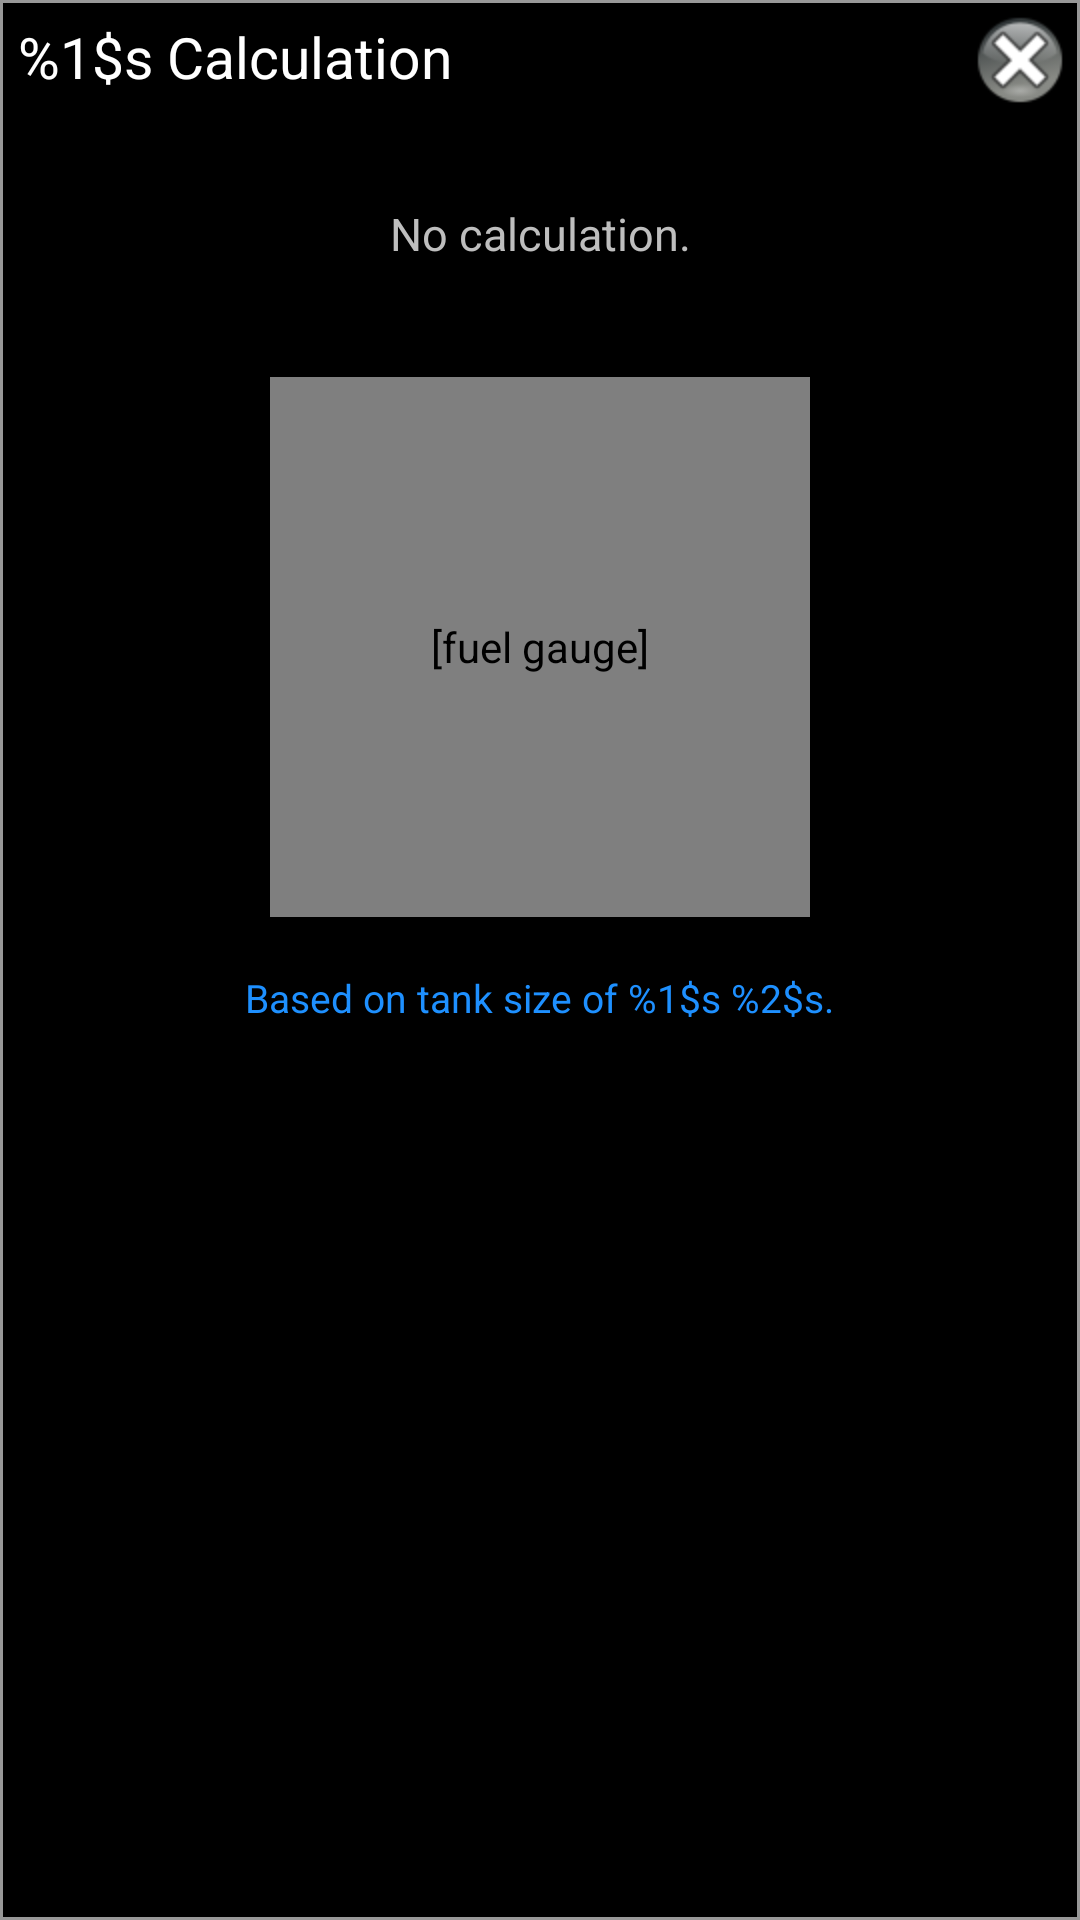

Icons on this 1080×1920 Android screen, each with the point to tap as (x,y):
close: (1020,60)
